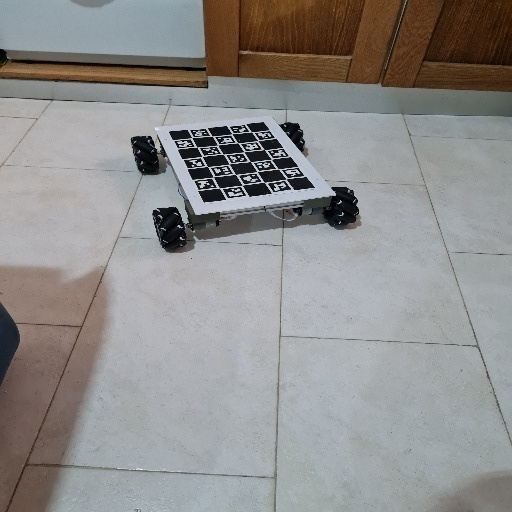Omniwheel: (131, 114, 360, 251)
